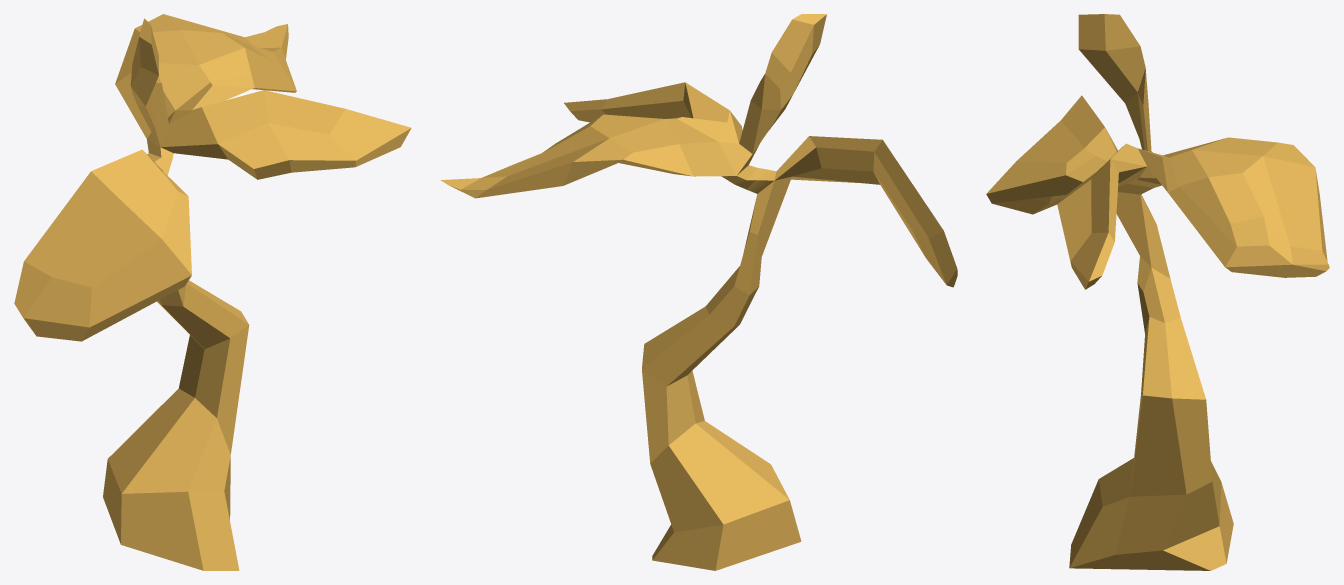
The model's file is Planta alien 3.fbx.
3 renders of one model, left to right at view 1: azimuth 30°, elevation 25°; view 2: azimuth 150°, elevation 25°; view 3: azimuth 270°, elevation 25°, orthographic. The views are drawn at different scales.
Parts seen in each view (by area): view 1: Planta alien 3; view 2: Planta alien 3; view 3: Planta alien 3.
Part boxes in pixels (x1,y1,x2,y2): Planta alien 3: (14,14,411,570); Planta alien 3: (440,14,957,570); Planta alien 3: (986,14,1329,570).
Size of the model in its own units: 360 by 470 by 280.
